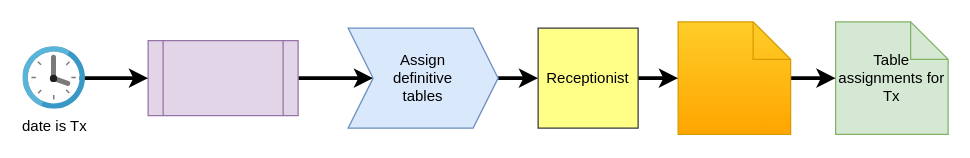
The diagram is 970 pixels wide and 158 high, and some of its shapes have lost their labels. The shapes that lost their labels are listed below. From the top down, each one's box as (x1, y1, x2, y2) in pixels, then its label:
(147, 39, 298, 116): Receptionist Policy
(677, 21, 791, 134): Tables assigned for customer on Tx
